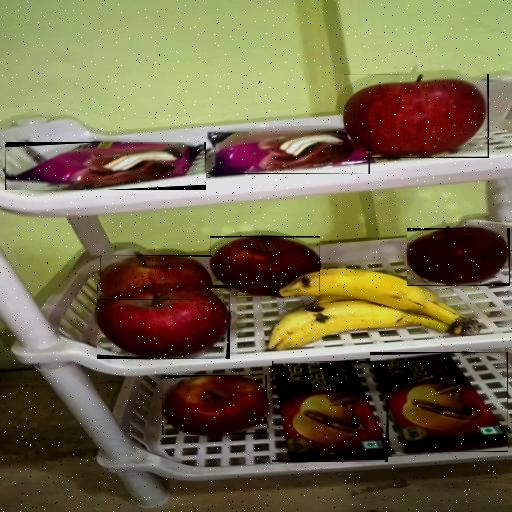Apple: (344, 74, 489, 158), (97, 285, 230, 359), (210, 236, 320, 296), (162, 376, 267, 436), (407, 228, 510, 286), (100, 255, 212, 300)
Choco Fills: (370, 352, 508, 452), (272, 361, 388, 462)
Choco Pie: (5, 142, 206, 190), (207, 126, 370, 174)
